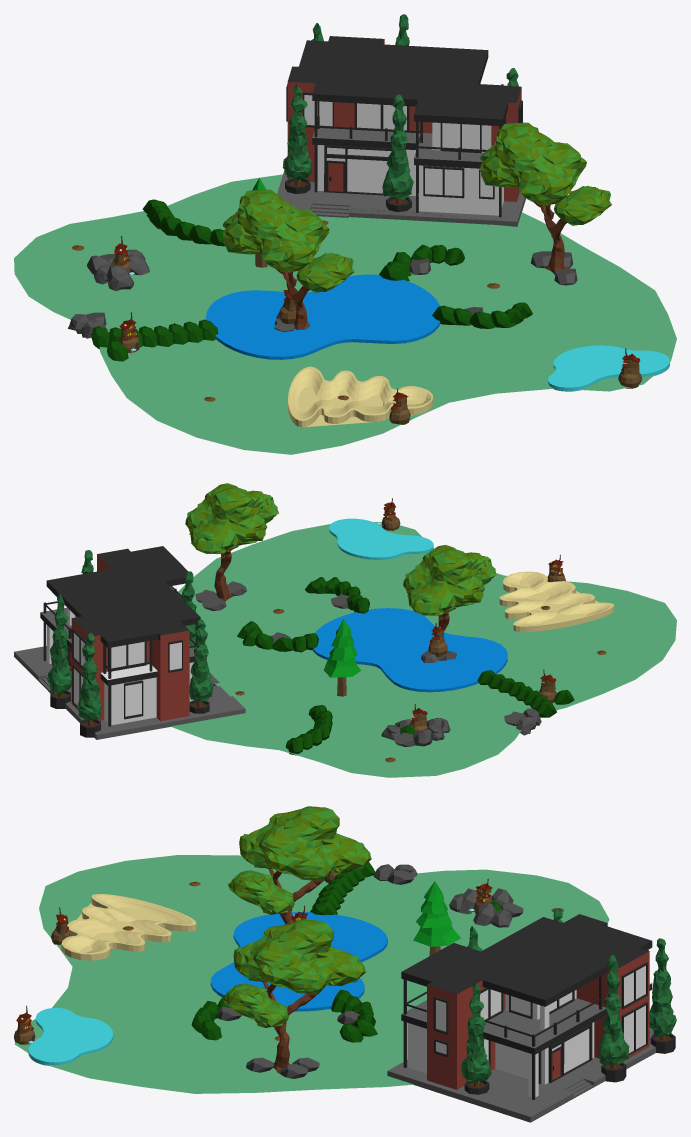
File: Level design test bigHardlevel.fbx
3 views of the same model, one above another, from view 1: azimuth 30°, elevation 25°; view 2: azimuth 150°, elevation 25°; view 3: azimuth 270°, elevation 25° (orthographic). The views are drawn at different scales.
Parts seen in each view (by area): view 1: Plane.005, TallTree.002, Cylinder.006, TreeBase.008, TreeBase.003, Cylinder.007, Cylinder.008, Gnome_House.011; view 2: Plane.005, TallTree.002, Cylinder.006, TreeBase.008, TreeBase.003, Cylinder.007, Cylinder.008, Cone.007; view 3: Plane.005, TallTree.002, TreeBase.008, TreeBase.003, Cylinder.007, Cylinder.006, Cylinder.008, Cone.007, Gnome_House.011.
Part boxes in pixels (x1,y1,x2,y2): Plane.005: [14, 174, 676, 454]; TallTree.002: [277, 14, 525, 226]; Cylinder.006: [206, 274, 440, 359]; TreeBase.008: [480, 122, 611, 274]; TreeBase.003: [223, 189, 354, 329]; Cylinder.007: [288, 366, 432, 427]; Cylinder.008: [548, 345, 669, 391]; Gnome_House.011: [618, 348, 642, 388]; Plane.005: [171, 522, 676, 777]; TallTree.002: [14, 546, 245, 739]; Cylinder.006: [312, 608, 507, 692]; TreeBase.008: [185, 483, 278, 601]; TreeBase.003: [403, 545, 496, 636]; Cylinder.007: [499, 571, 614, 631]; Cylinder.008: [329, 518, 433, 559]; Cone.007: [323, 618, 360, 696]; Plane.005: [14, 855, 609, 1093]; TallTree.002: [387, 908, 676, 1122]; TreeBase.008: [222, 919, 365, 1073]; TreeBase.003: [228, 806, 371, 924]; Cylinder.007: [61, 894, 196, 960]; Cylinder.006: [210, 912, 387, 1011]; Cylinder.008: [28, 1007, 113, 1065]; Cone.007: [413, 881, 460, 955]; Gnome_House.011: [14, 1005, 35, 1045].
Bounding box in the file's own units: 17490 × 4455 × 18347.
